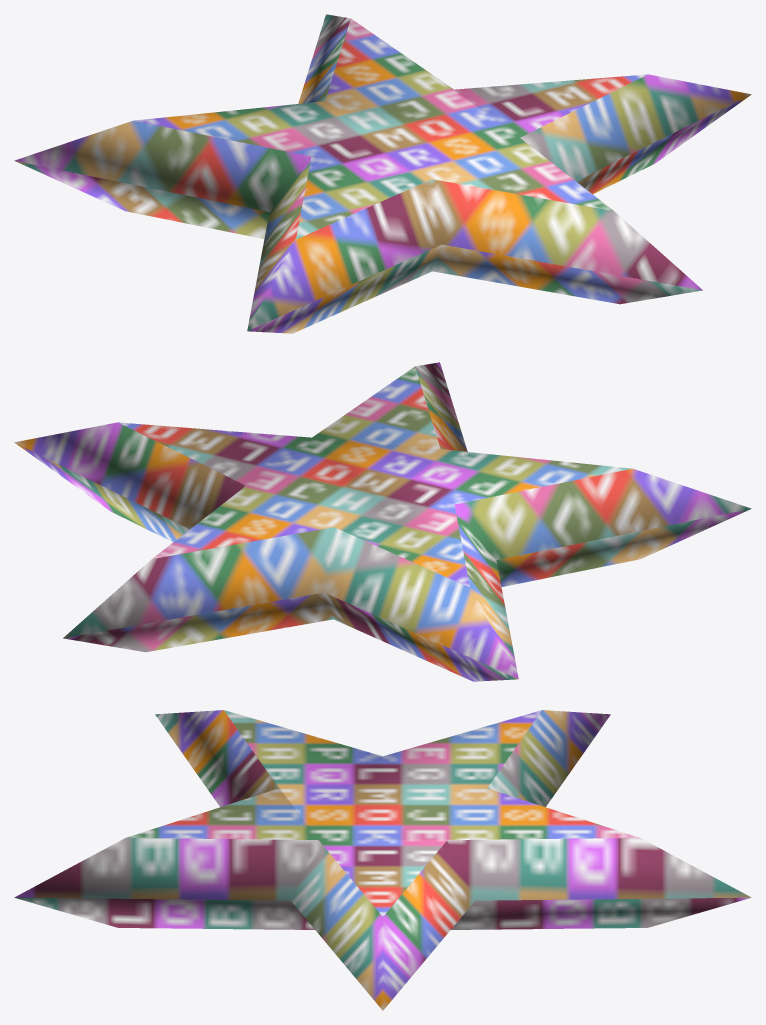
File: star.dae
The picture shows the model from 3 angles, top to bottom: view 1: azimuth 30°, elevation 25°; view 2: azimuth 150°, elevation 25°; view 3: azimuth 270°, elevation 25°; orthographic projection. The views are drawn at different scales.
Parts seen in each view (by area): view 1: N-Gon1-0; view 2: N-Gon1-0; view 3: N-Gon1-0.
Boxes of the visible parts, x1=… form: N-Gon1-0: x1=14, y1=14, x2=751, y2=333; N-Gon1-0: x1=14, y1=362, x2=751, y2=681; N-Gon1-0: x1=14, y1=710, x2=751, y2=1010.
Size of the model in its own units: 1.81 by 0.2529 by 1.9.
